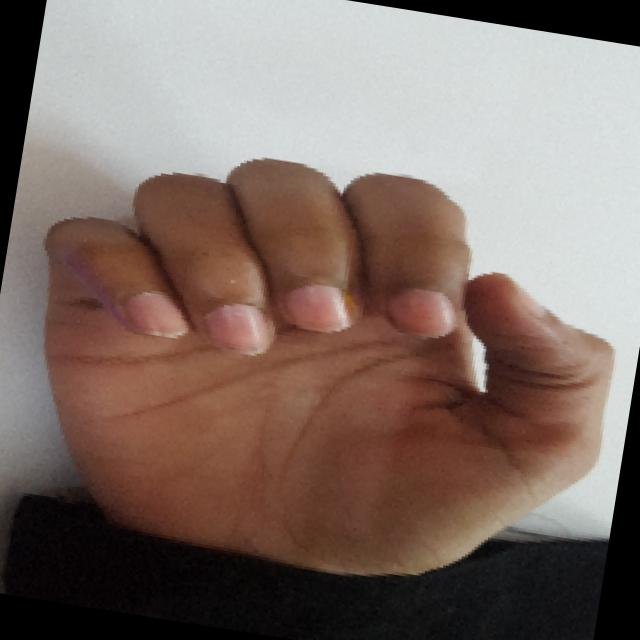Nail: (206, 303, 273, 354), (387, 288, 456, 337), (284, 284, 351, 332), (124, 291, 189, 337), (509, 276, 545, 318)
